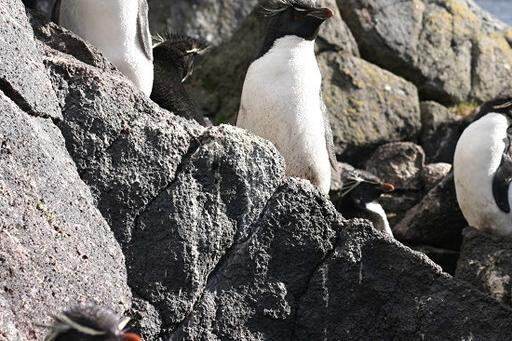Southern Rockhopper Penguin: (206, 0, 365, 180), (430, 66, 512, 246), (47, 0, 186, 104), (22, 284, 200, 341)
